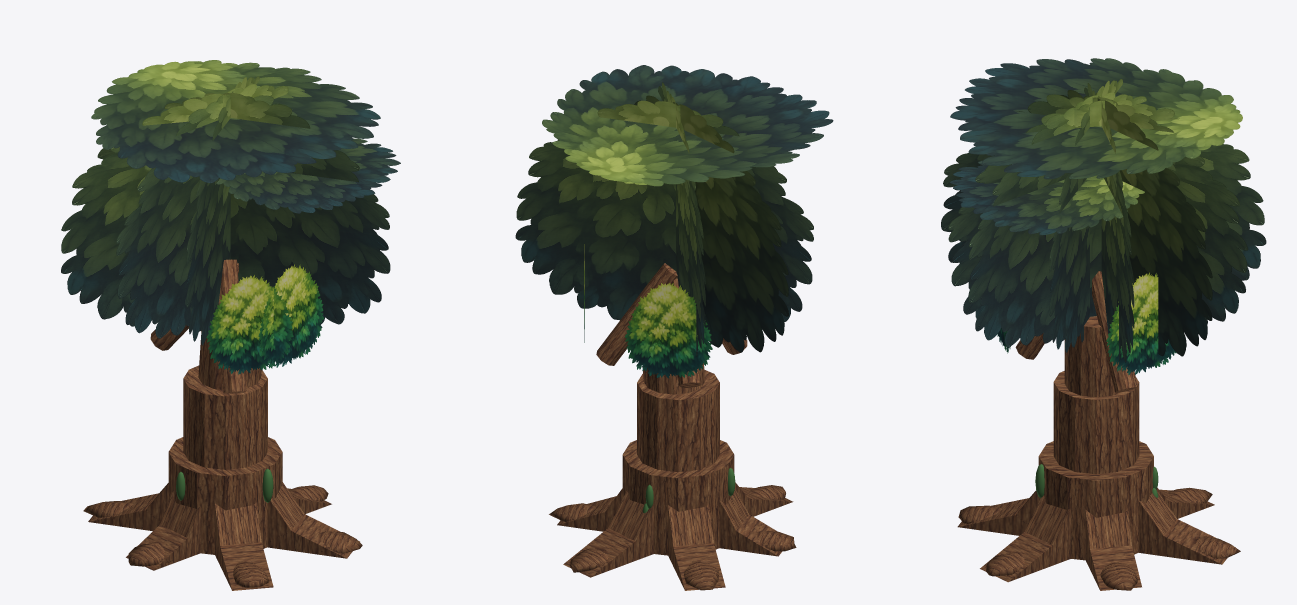
File: ancient_tree.gltf
The picture shows the model from 3 angles, left to right: view 1: azimuth 30°, elevation 25°; view 2: azimuth 150°, elevation 25°; view 3: azimuth 270°, elevation 25°; orthographic projection. The views are drawn at different scales.
Visible parts, largest first — view 1: ancient_tree; view 2: ancient_tree; view 3: ancient_tree.
Part boxes in pixels (box(x1,y1,x2,y2)): ancient_tree: box(61, 60, 400, 590); ancient_tree: box(515, 65, 833, 590); ancient_tree: box(941, 58, 1266, 590).
Size of the model in its own units: 10.19 by 13.84 by 9.91.
Materials: 4 (4 with a texture image).
